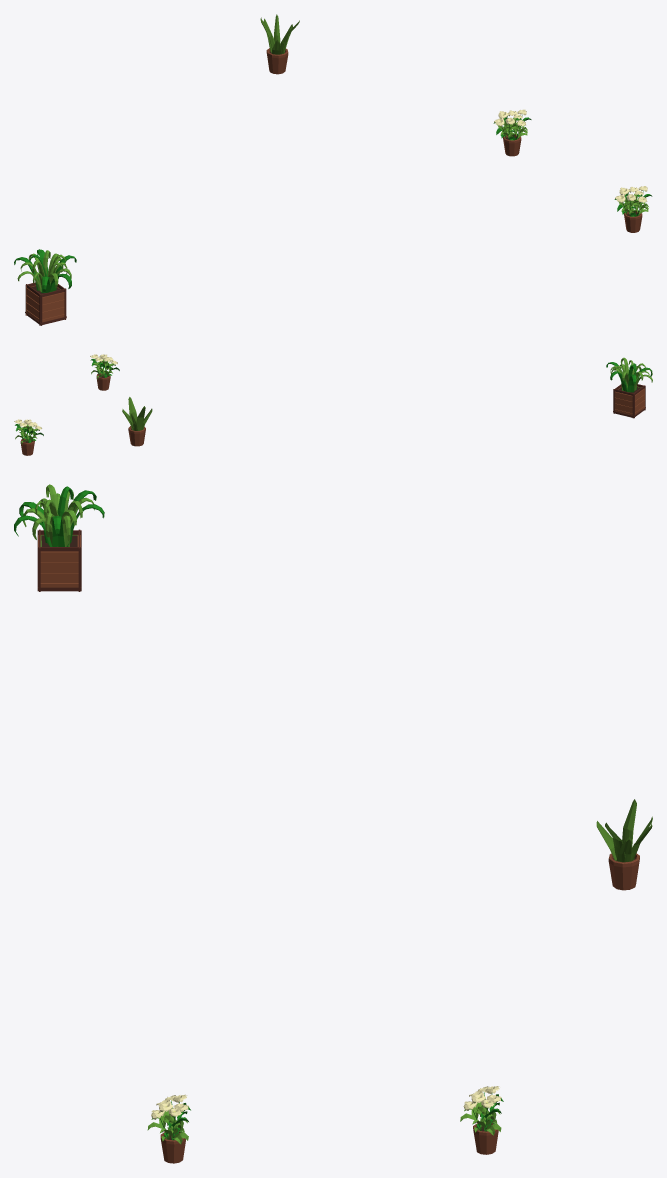
The model's file is plants.glb.
3 views of the same model, one above another, from view 1: azimuth 30°, elevation 25°; view 2: azimuth 150°, elevation 25°; view 3: azimuth 270°, elevation 25° (orthographic). The views are drawn at different scales.
Visible parts, largest first — view 1: pot.002, flowerpot.009, flowerpot.001, flowerpot.002; view 2: pot.002, flowerpot.002, flowerpot.001, flowerpot.009; view 3: pot.002, flowerpot.002, flowerpot.009, flowerpot.001.
Part boxes in pixels (<box>): pot.002: <box>14,249,76,325</box>; flowerpot.009: <box>493,109,531,156</box>; flowerpot.001: <box>614,186,652,232</box>; flowerpot.002: <box>260,14,299,74</box>; pot.002: <box>606,357,652,418</box>; flowerpot.002: <box>122,397,152,446</box>; flowerpot.001: <box>90,354,119,390</box>; flowerpot.009: <box>14,419,43,455</box>; pot.002: <box>14,484,104,591</box>; flowerpot.002: <box>596,799,652,890</box>; flowerpot.009: <box>460,1086,503,1154</box>; flowerpot.001: <box>147,1094,190,1163</box>.
Bounding box in the file's own units: 10.37 × 2.32 × 5.92.
